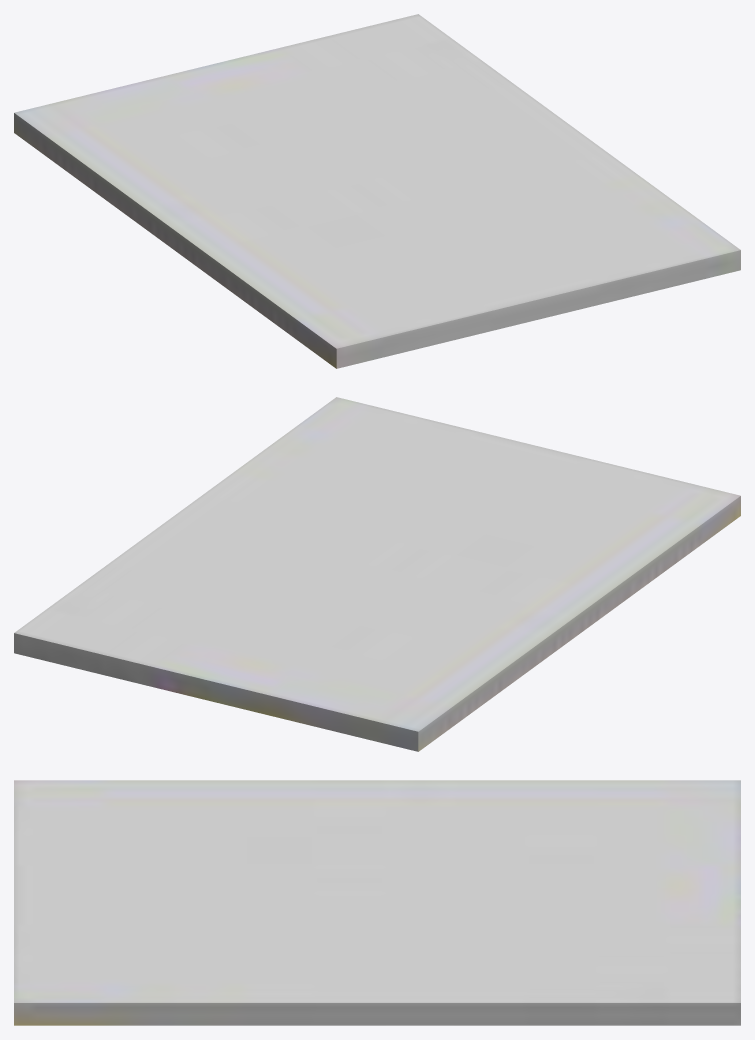
Rendered from notepads.glb.
The picture shows the model from 3 angles, top to bottom: view 1: azimuth 30°, elevation 25°; view 2: azimuth 150°, elevation 25°; view 3: azimuth 270°, elevation 25°; orthographic projection. The views are drawn at different scales.
Visible parts, largest first — view 1: notepads; view 2: notepads; view 3: notepads.
Boxes of the visible parts, <box> form: notepads: <box>14,14,740,368</box>; notepads: <box>14,397,740,751</box>; notepads: <box>14,780,740,1025</box>.
Bounding box in the file's own units: 0.21 × 0.01 × 0.29.
Materials: 1 (1 with a texture image).
